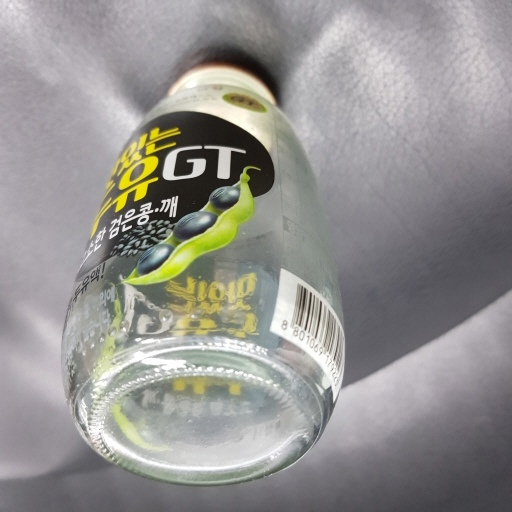Glass_4: (49, 33, 357, 492)
